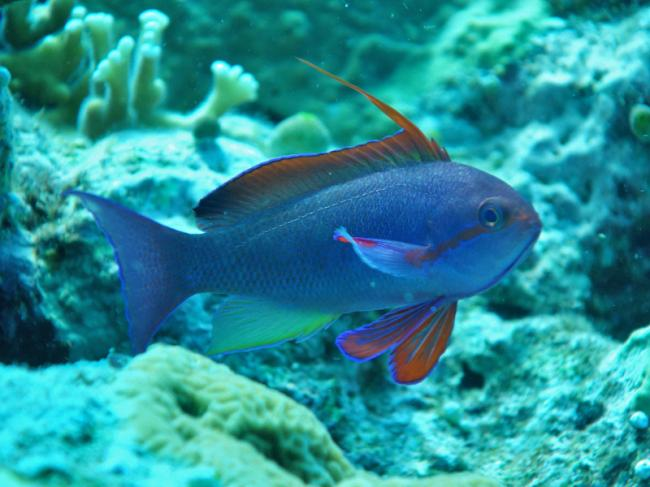fish: (66, 55, 544, 388)
